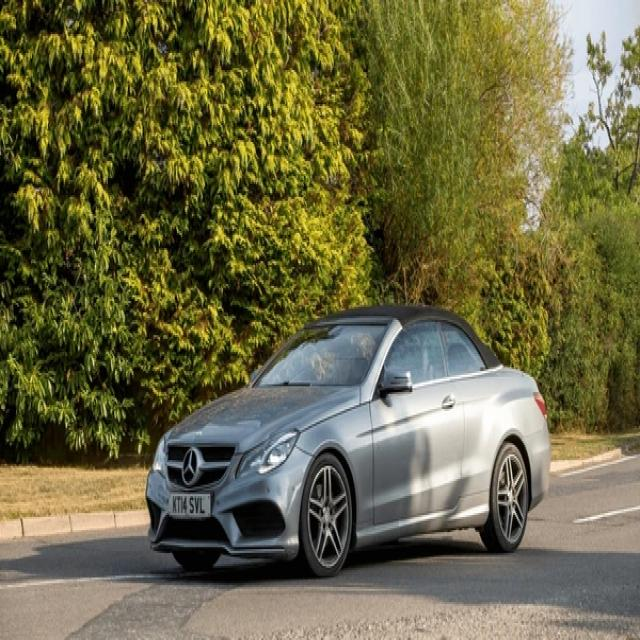mercedes: (182, 447, 200, 488)
